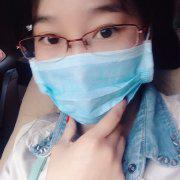OK: (32, 11, 145, 124)
